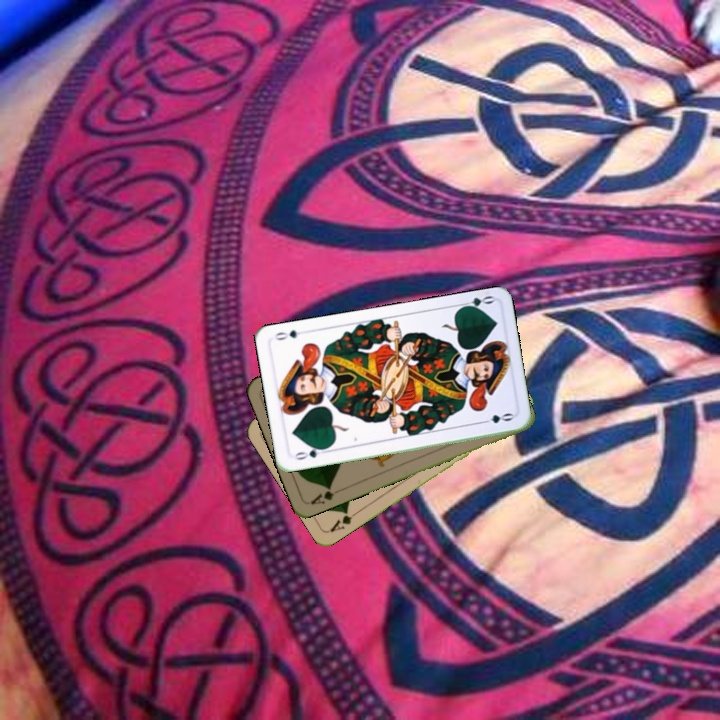GA: (326, 507, 362, 535), (307, 482, 345, 507)
GO: (455, 291, 496, 313), (291, 443, 330, 463)
